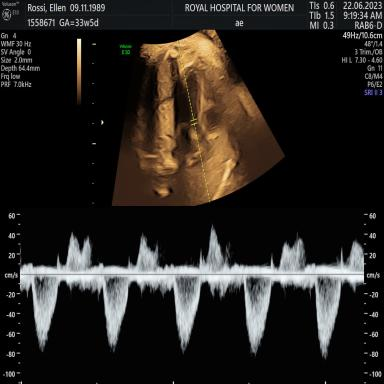Ultrasound-Waves: (27, 215, 360, 384)
